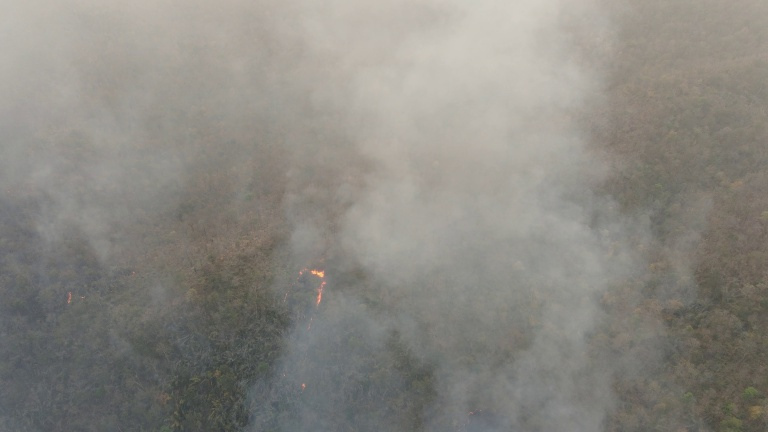fire: (283, 267, 325, 323), (61, 288, 89, 308), (299, 380, 308, 393)
smoke: (267, 1, 653, 430), (1, 1, 293, 180), (1, 179, 194, 432)
